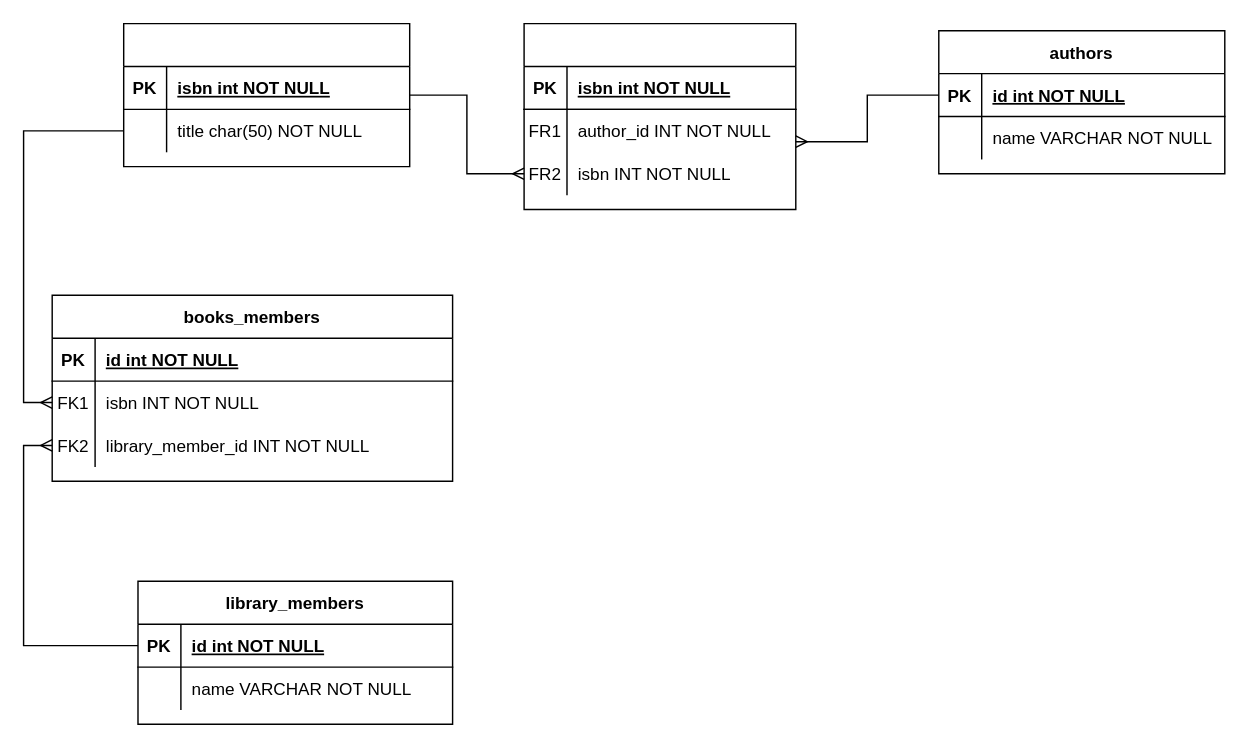
The diagram is 1248 pixels wide and 748 high, and some of its shapes have lost their labels. Here are the shapes that lost their labels. From the top down, the box of each, then its label:
(122, 22, 410, 167): books
(523, 22, 796, 209): authors_books
